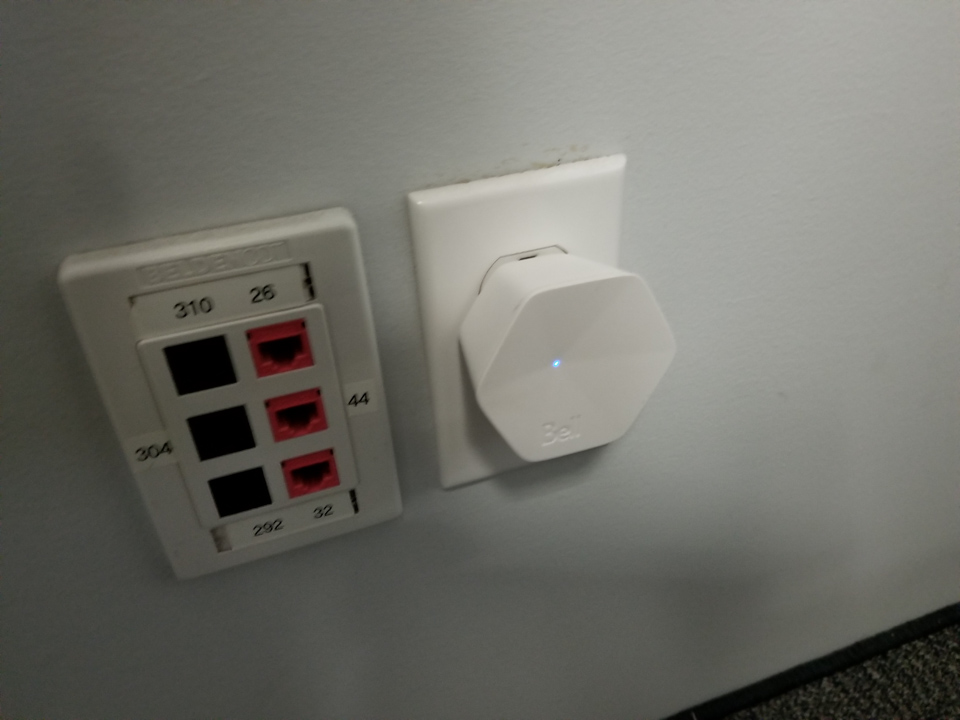pod: (453, 250, 684, 468)
